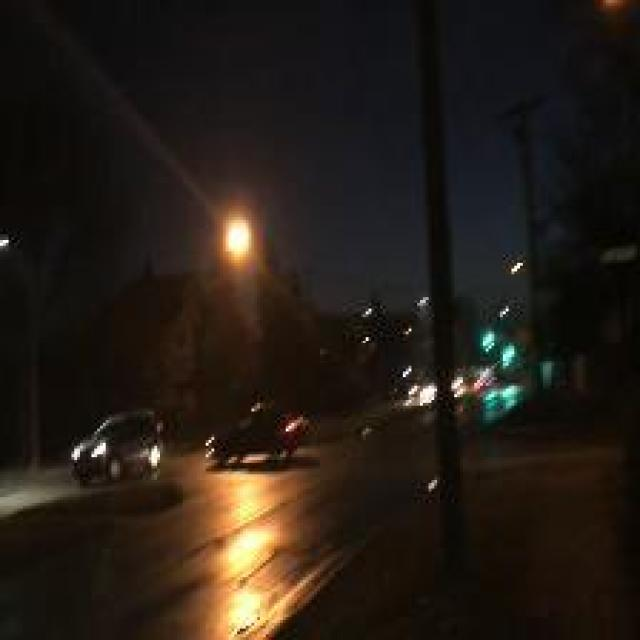other: (197, 192, 270, 273)
